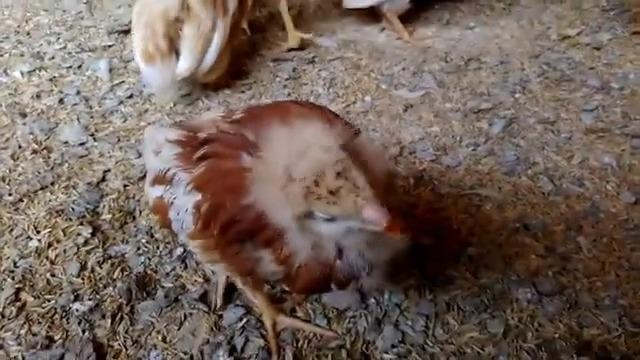AbNormal: (133, 90, 436, 335)
